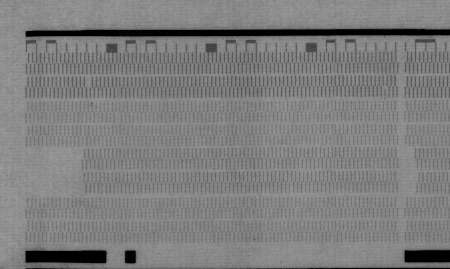Broken hole: (25, 144, 89, 197), (402, 146, 420, 195), (83, 75, 95, 87)
Oblique printing: (381, 87, 391, 100)
